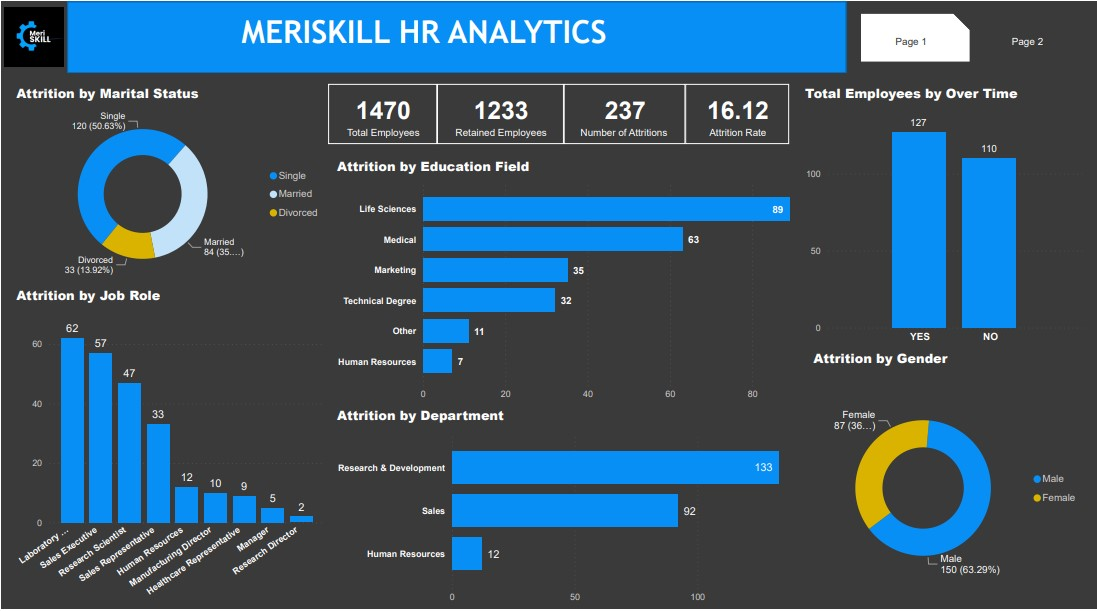

The page's visual inventory and layout, read from the dashboard file:
{"tool":"powerbi","page":{"name":"Page 1","canvas":[1480,820],"ordinal":0},"visuals":[{"type":"columnChart","title":"Total Employees by Over Time","fields":{"Category":["HR_Employee_Table.OverTime"],"Y":["HR_Employee_Table.Total Attrition"]},"box":[1081,111.2,384.3,358.1],"z":0},{"type":"card","fields":{"Values":["HR_Employee_Table.Total Number of Employees"]},"box":[442.2,110.5,146.8,80.8],"z":1000,"group":"g2"},{"type":"donutChart","title":"Attrition by Gender","fields":{"Category":["HR_Employee_Table.Gender"],"Y":["HR_Employee_Table.Total Attrition"]},"box":[1092.3,468.6,372.9,351.4],"z":1000},{"type":"shape","title":"MERI","box":[90.4,0,1051.1,96.5],"z":2000,"group":"g1"},{"type":"donutChart","title":"Attrition by Marital Status","fields":{"Category":["HR_Employee_Table.MaritalStatus"],"Y":["HR_Employee_Table.Total Attrition"]},"box":[16.5,110.5,425.7,273.9],"z":2000},{"type":"image","box":[0,0,90.4,96.5],"z":3000,"group":"g1"},{"type":"barChart","title":"Attrition by Department","fields":{"Category":["HR_Employee_Table.Department"],"Y":["HR_Employee_Table.Total Attrition"]},"box":[448.8,546.1,640.2,273.9],"z":3000},{"type":"textbox","box":[273.1,0,596.9,96.5],"z":4000,"group":"g1"},{"type":"barChart","title":"Attrition by Education Field","fields":{"Category":["HR_Employee_Table.EducationField"],"Y":["HR_Employee_Table.Total Attrition"]},"box":[448.8,209.5,633.6,336.6],"z":4000},{"type":"card","fields":{"Values":["Count(HR_Employee_Table.EmployeeNumber)"]},"box":[760.6,110.5,163.3,80.8],"z":5000,"group":"g2"},{"type":"columnChart","title":"Attrition by Job Role","fields":{"Category":["HR_Employee_Table.JobRole"],"Y":["HR_Employee_Table.Total Attrition"]},"box":[16.5,384.4,425.7,435.6],"z":5000},{"type":"group","id":"g1","title":"Group 1","box":[0,0,1141.5,96.5],"z":6000,"group":"g3"},{"type":"group","id":"g2","title":"Group 2","box":[442.2,110.5,622,80.8],"z":6000},{"type":"card","fields":{"Values":["HR_Employee_Table.Attrition Rate"]},"box":[924,110.5,140.2,80.8],"z":6000,"group":"g2"},{"type":"group","id":"g3","title":"Group 3","box":[0,0,1465.3,96.5],"z":7000},{"type":"card","fields":{"Values":["Count(HR_Employee_Table.EmployeeNumber)"]},"box":[589,110.5,171.6,80.8],"z":7000,"group":"g2"},{"type":"pageNavigator","box":[1161.1,16.4,304.2,65.4],"z":7001,"group":"g3"}]}

Visuals, with their boxes in screenshot pixels (x1, y1, x2, y2), scaled from the page's 1480x820 canvas onto the 1097x611 screenshot:
"Total Employees by Over Time" columnChart: 801 83 1086 350
card - HR_Employee_Table.Total Number of Employees: 328 82 437 143
"Attrition by Gender" donutChart: 810 349 1086 610
"MERI" shape: 67 0 846 72
"Attrition by Marital Status" donutChart: 12 82 328 286
image: 0 0 67 72
"Attrition by Department" barChart: 333 407 807 610
textbox: 202 0 645 72
"Attrition by Education Field" barChart: 333 156 802 407
card - Count(HR_Employee_Table.EmployeeNumber): 564 82 685 143
"Attrition by Job Role" columnChart: 12 286 328 610
"Group 1" group: 0 0 846 72
"Group 2" group: 328 82 789 143
card - HR_Employee_Table.Attrition Rate: 685 82 789 143
"Group 3" group: 0 0 1086 72
card - Count(HR_Employee_Table.EmployeeNumber): 437 82 564 143
pageNavigator: 861 12 1086 61
